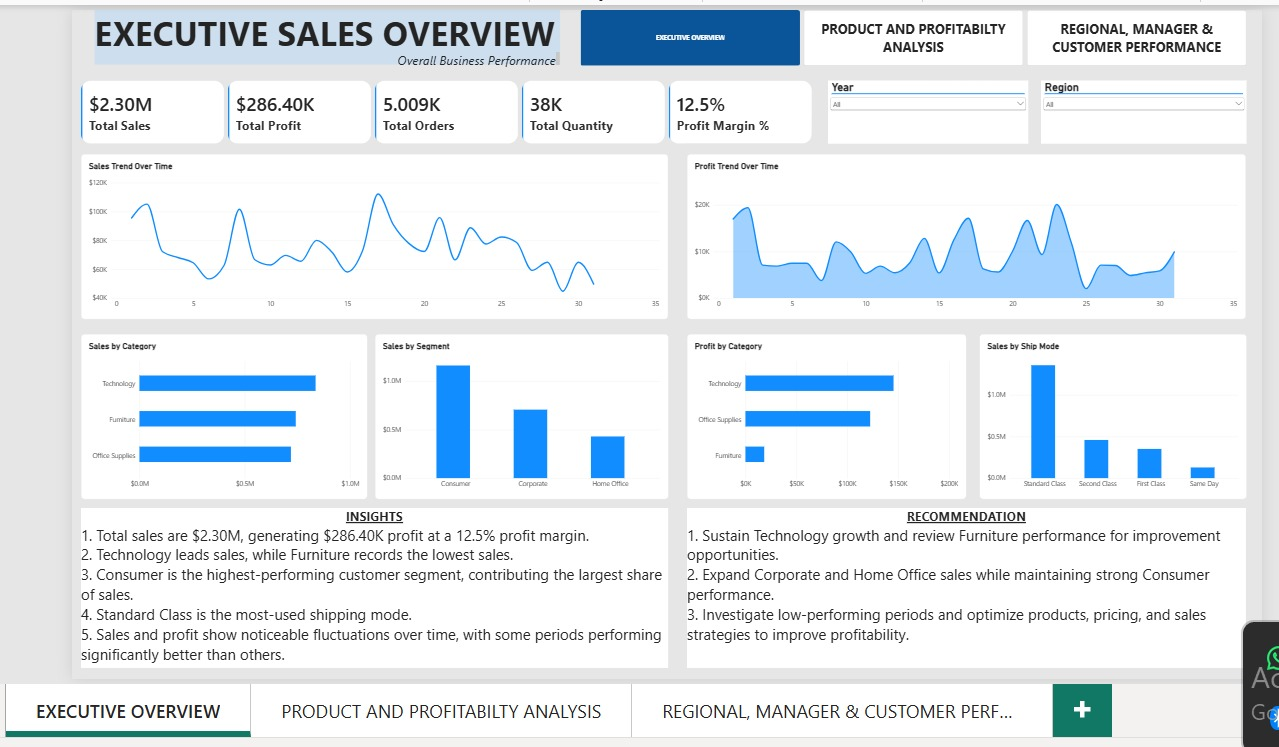

This screenshot's page, from the dashboard's own definition file:
{"tool":"powerbi","page":{"name":"EXECUTIVE OVERVIEW","canvas":[2560,1440],"ordinal":0},"visuals":[{"type":"cardVisual","fields":{"Data":["Sum(Orders$FilterDatabase.Sales)","Sum(Orders$FilterDatabase.Profit)","Count(Orders$FilterDatabase.Order ID)","Sum(Orders$FilterDatabase.Quantity)","Orders$FilterDatabase.Profit Margin %"]},"box":[18.9,151.2,1572.3,136.1],"z":0},{"type":"lineChart","title":"Sales Trend Over Time","fields":{"Category":["Orders$FilterDatabase.Order Date.Variation.Date Hierarchy.Day"],"Y":["Sum(Orders$FilterDatabase.Sales)"]},"box":[18.9,309.9,1262.4,355.3],"z":1000},{"type":"textbox","box":[49.1,0,1001.6,117.2],"z":2000},{"type":"areaChart","title":"Profit Trend Over Time","fields":{"Category":["Orders$FilterDatabase.Order Date.Variation.Date Hierarchy.Day"],"Y":["Sum(Orders$FilterDatabase.Profit)"]},"box":[1322.8,309.9,1201.9,355.3],"z":3000},{"type":"barChart","title":"Sales by Category","fields":{"Category":["Orders$FilterDatabase.Category"],"Y":["Sum(Orders$FilterDatabase.Sales)"]},"box":[18.9,695.4,616.1,355.3],"z":4000},{"type":"barChart","title":"Profit by Category","fields":{"Category":["Orders$FilterDatabase.Category"],"Y":["Sum(Orders$FilterDatabase.Profit)"]},"box":[1322.8,695.4,600.9,355.3],"z":5000},{"type":"columnChart","title":" Sales by Segment","fields":{"Category":["Orders$FilterDatabase.Segment"],"Y":["Sum(Orders$FilterDatabase.Sales)"]},"box":[650.1,695.4,631.2,355.3],"z":6000},{"type":"columnChart","title":"Sales by Ship Mode","fields":{"Category":["Orders$FilterDatabase.Ship Mode"],"Y":["Sum(Orders$FilterDatabase.Sales)"]},"box":[1950.3,695.4,574.5,355.3],"z":7000},{"type":"slicer","fields":{"Values":["Orders$FilterDatabase.Order Date.Variation.Date Hierarchy.Year"]},"box":[1625.2,151.2,430.9,136.1],"z":8000},{"type":"slicer","fields":{"Values":["Orders$FilterDatabase.Region"]},"box":[2082.5,151.2,442.2,136.1],"z":9000},{"type":"pageNavigator","box":[1092.3,0,1432.5,120.9],"z":10000},{"type":"textbox","box":[18.9,1069.6,1262.4,343.9],"z":11000},{"type":"textbox","box":[1322.8,1069.6,1201.9,343.9],"z":12000},{"type":"textbox","box":[96.6,89.7,951.7,31],"z":13000}]}

Visuals, with their boxes on the page's 2560x1440 design canvas (x1, y1, x2, y2). These are canvas units, not pixel positions in the 1279x747 screenshot, which may show the page scaled, cropped or inside an application window:
cardVisual - Sum(Orders$FilterDatabase.Sales) x Sum(Orders$FilterDatabase.Profit): {"x1": 19, "y1": 151, "x2": 1591, "y2": 287}
"Sales Trend Over Time" lineChart: {"x1": 19, "y1": 310, "x2": 1281, "y2": 665}
textbox: {"x1": 49, "y1": 0, "x2": 1051, "y2": 117}
"Profit Trend Over Time" areaChart: {"x1": 1323, "y1": 310, "x2": 2525, "y2": 665}
"Sales by Category" barChart: {"x1": 19, "y1": 695, "x2": 635, "y2": 1051}
"Profit by Category" barChart: {"x1": 1323, "y1": 695, "x2": 1924, "y2": 1051}
" Sales by Segment" columnChart: {"x1": 650, "y1": 695, "x2": 1281, "y2": 1051}
"Sales by Ship Mode" columnChart: {"x1": 1950, "y1": 695, "x2": 2525, "y2": 1051}
slicer - Orders$FilterDatabase.Order Date.Variation.Date Hierarchy.Year: {"x1": 1625, "y1": 151, "x2": 2056, "y2": 287}
slicer - Orders$FilterDatabase.Region: {"x1": 2082, "y1": 151, "x2": 2525, "y2": 287}
pageNavigator: {"x1": 1092, "y1": 0, "x2": 2525, "y2": 121}
textbox: {"x1": 19, "y1": 1070, "x2": 1281, "y2": 1414}
textbox: {"x1": 1323, "y1": 1070, "x2": 2525, "y2": 1414}
textbox: {"x1": 97, "y1": 90, "x2": 1048, "y2": 121}
